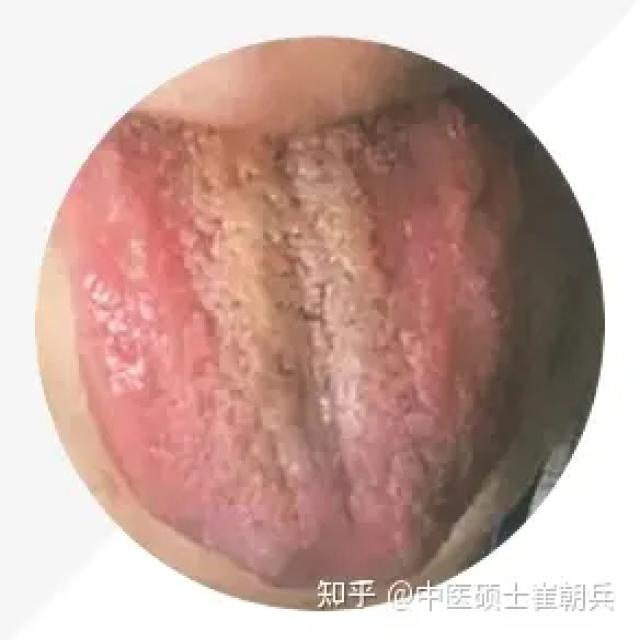tongue: (66, 127, 533, 566)
